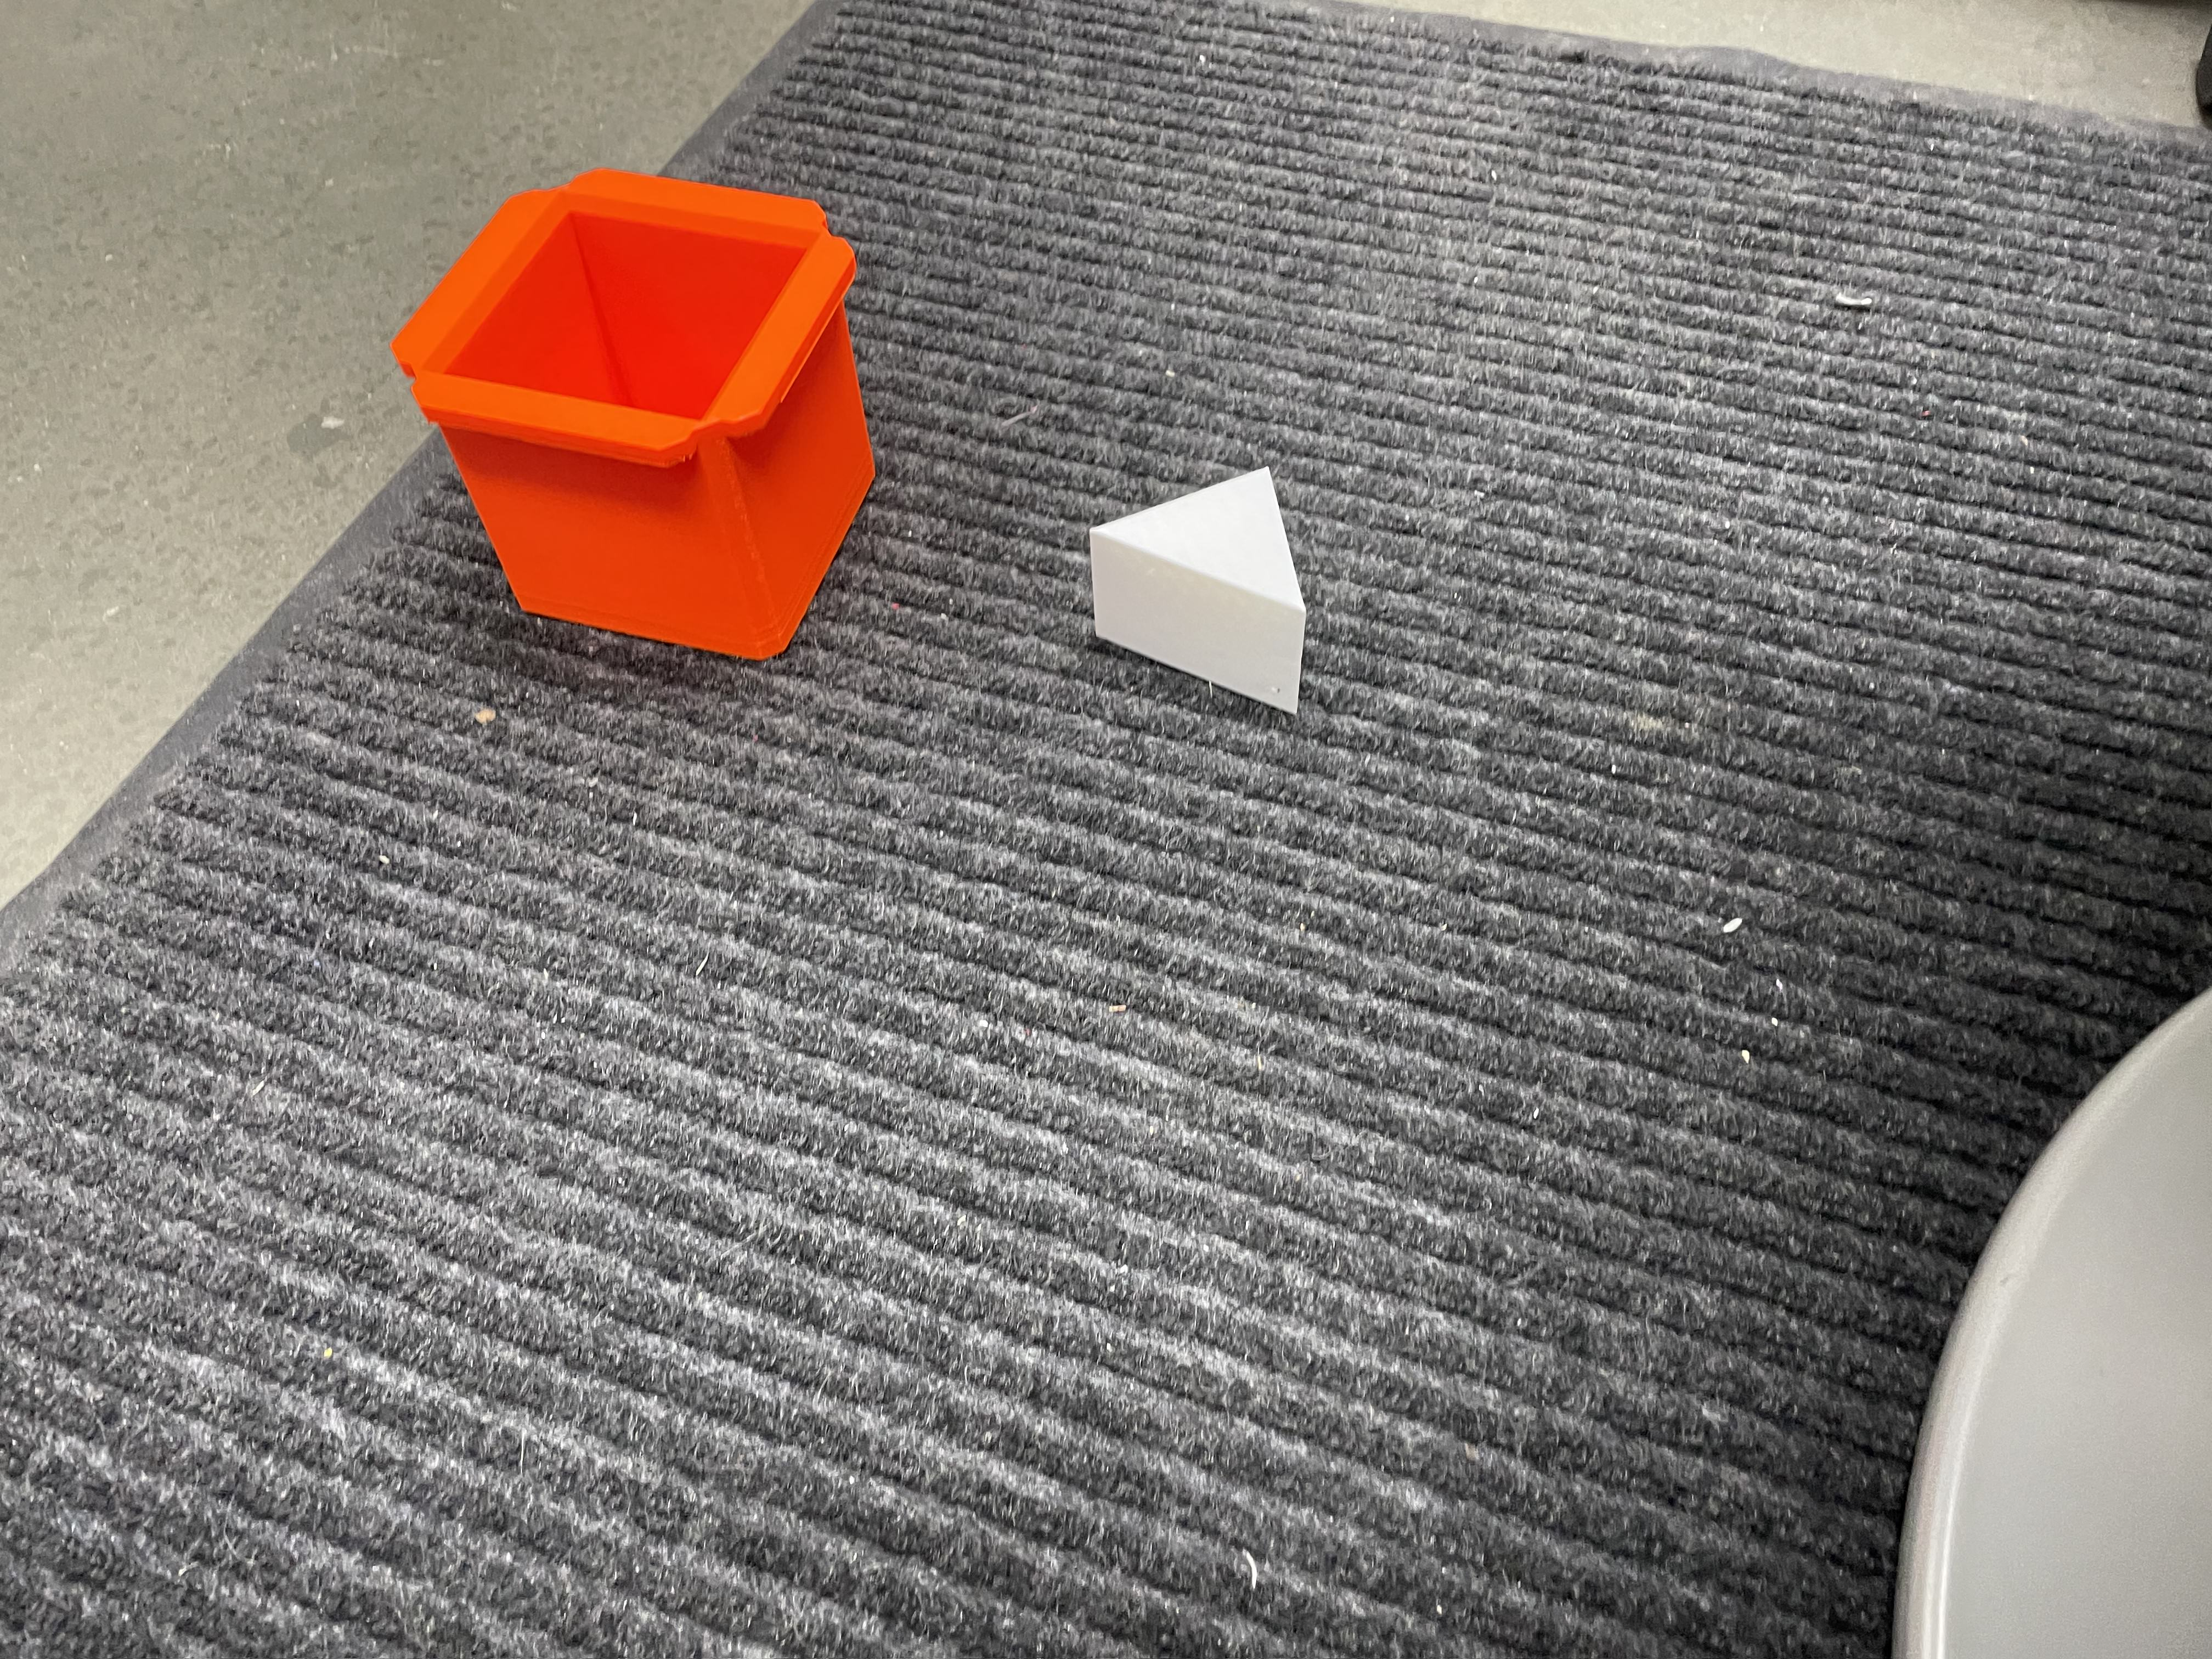payload1: (374, 157, 902, 681)
payload2: (1073, 436, 1327, 749)
